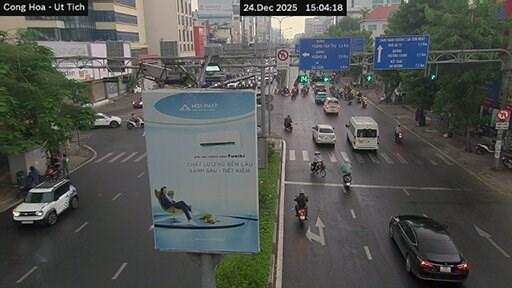motorbike: (45, 162, 62, 179), (475, 140, 495, 154), (312, 161, 325, 177), (127, 117, 143, 128), (297, 208, 306, 226), (502, 155, 511, 168), (343, 175, 351, 188), (284, 122, 293, 132), (394, 132, 402, 143), (362, 99, 367, 108), (291, 92, 296, 99)
